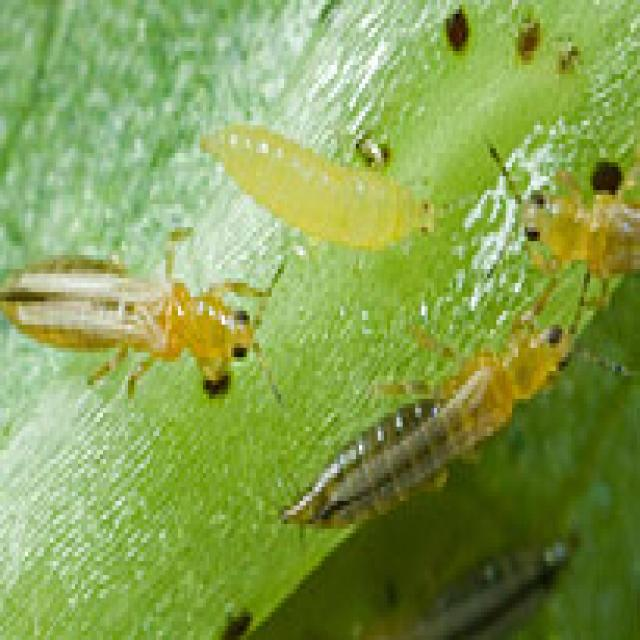Thrip-Adult-: (269, 358, 517, 560)
Thrip-Larva-: (178, 113, 464, 265)
